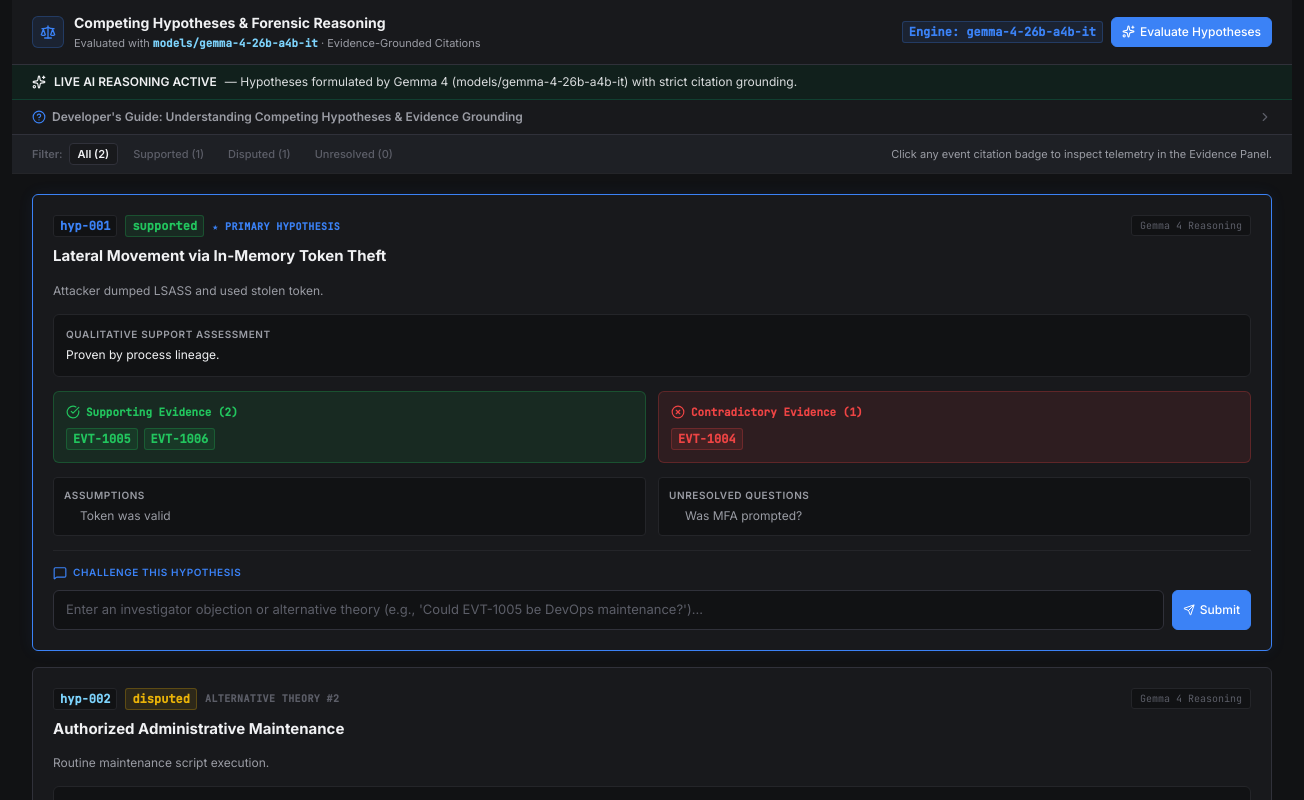
Test: HypothesesView Component › filters hypotheses by status tabs and renders empty evidence indicator
This screenshot has width=1304, height=800.
Expected: the heading "Lateral Movement via In-Memory Token Theft" is shown, [53,245,386,268]
Expected: the heading "Authorized Administrative Maintenance" is shown, [53,718,344,740]
Filter to disputed
Click the button "Disputed (1)": (259, 154) [219,142,300,165]
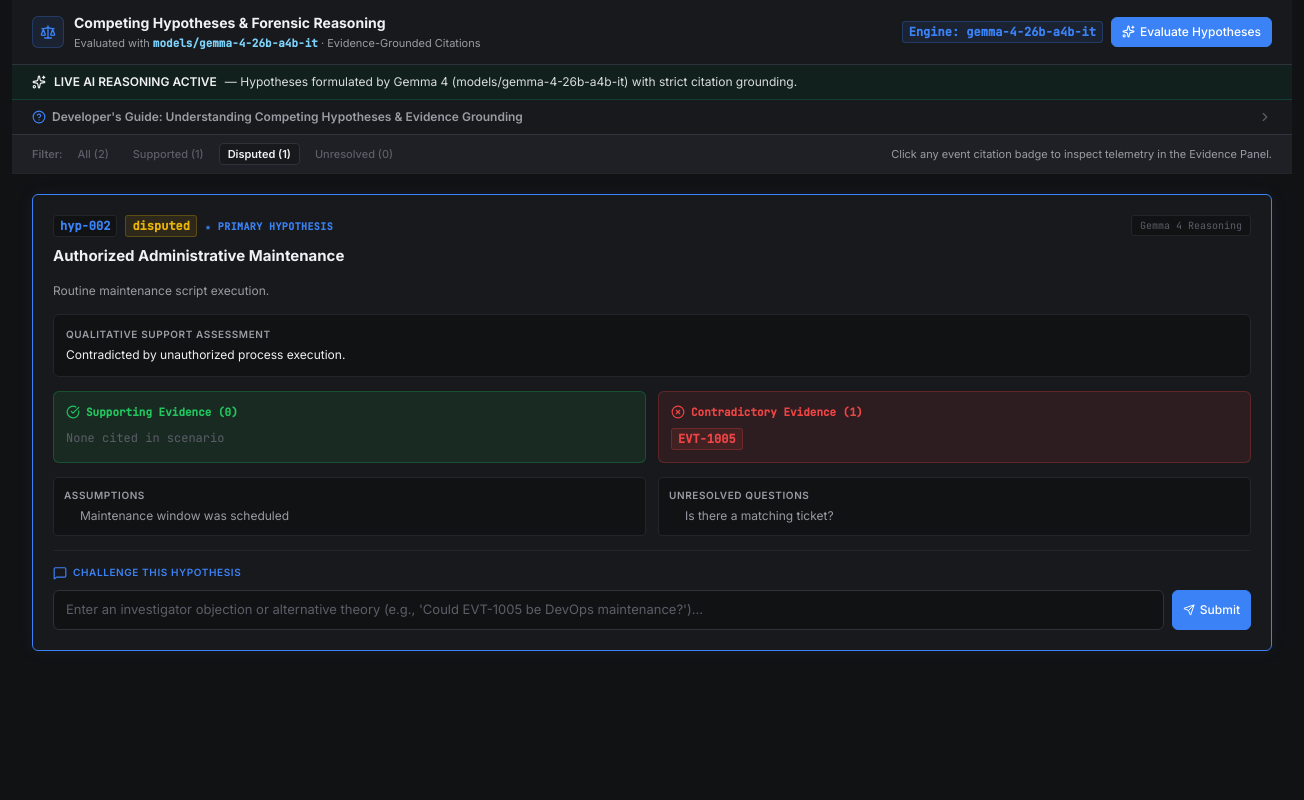
Expected: the heading "Authorized Administrative Maintenance" is shown, [53,245,344,268]
Result: the heading "Lateral Movement via In-Memory Token Theft" is gone
